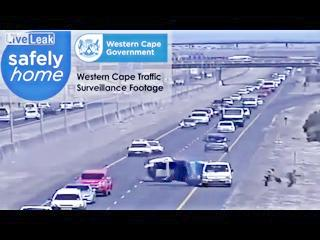Car: (158, 158, 202, 186), (74, 168, 112, 197), (50, 187, 88, 210), (201, 161, 233, 187), (127, 139, 152, 157), (143, 156, 174, 169), (18, 199, 54, 210), (204, 139, 229, 153), (190, 110, 210, 125), (145, 140, 164, 153), (204, 133, 228, 143), (36, 102, 52, 114), (24, 108, 40, 120), (180, 118, 199, 128), (0, 107, 11, 122), (210, 100, 224, 111), (234, 116, 246, 127), (59, 102, 73, 111), (24, 103, 38, 112), (72, 100, 85, 108), (242, 108, 251, 117), (175, 79, 185, 85), (194, 75, 202, 80), (206, 73, 213, 78)
Major Accident: (142, 156, 237, 191)
